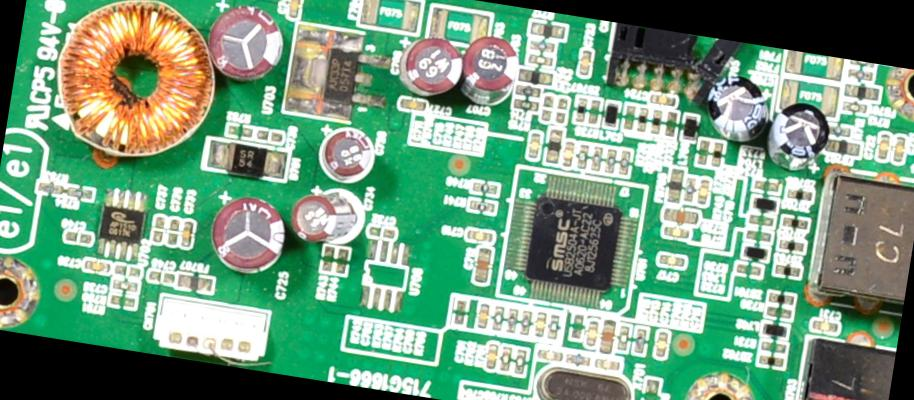Capacitor Jumper: (202, 184, 294, 274), (200, 0, 290, 84), (308, 120, 402, 192), (383, 29, 470, 105), (459, 31, 520, 123), (285, 178, 364, 248), (395, 94, 456, 119), (621, 88, 683, 112), (358, 216, 406, 246), (458, 219, 499, 247), (468, 297, 495, 333), (653, 246, 693, 270), (890, 123, 911, 167), (874, 123, 896, 164), (572, 42, 597, 77), (807, 314, 841, 336), (470, 249, 491, 284), (253, 126, 286, 148), (144, 265, 177, 287), (661, 207, 699, 226), (566, 310, 587, 344), (661, 224, 695, 244), (654, 324, 672, 361), (149, 212, 169, 244), (109, 272, 141, 292), (592, 356, 623, 376), (526, 127, 544, 161), (65, 227, 94, 248), (535, 344, 564, 364), (599, 321, 616, 354), (484, 339, 500, 374), (180, 217, 196, 251), (584, 316, 600, 350), (282, 0, 310, 19), (165, 214, 181, 247), (562, 138, 579, 168), (534, 308, 548, 338), (85, 258, 111, 274), (699, 176, 711, 205)
IC: (498, 172, 644, 312)
Resistor Jumper: (742, 208, 778, 246), (522, 36, 562, 68), (462, 195, 501, 218), (834, 92, 870, 116), (105, 285, 139, 310), (466, 177, 502, 200), (69, 178, 100, 204), (447, 294, 470, 329), (226, 113, 255, 140), (634, 323, 654, 360), (318, 236, 338, 272), (334, 240, 354, 276), (564, 347, 594, 370), (38, 174, 68, 196), (753, 176, 781, 198), (616, 320, 634, 354), (570, 94, 589, 126), (584, 98, 603, 130), (763, 302, 795, 320), (516, 308, 535, 338), (848, 60, 876, 80), (681, 173, 699, 203), (736, 260, 765, 278), (710, 137, 726, 168), (590, 143, 606, 174), (498, 342, 514, 373), (513, 347, 530, 376), (618, 148, 634, 178), (504, 302, 519, 333), (622, 104, 638, 132), (696, 134, 712, 162), (512, 85, 541, 100), (512, 99, 538, 115), (758, 342, 787, 356), (576, 143, 590, 171), (547, 311, 560, 339), (492, 306, 504, 331), (606, 149, 616, 172)
Transistor: (601, 21, 712, 100)
iC: (280, 20, 368, 127), (352, 239, 426, 317), (198, 135, 300, 189), (98, 182, 162, 264)
